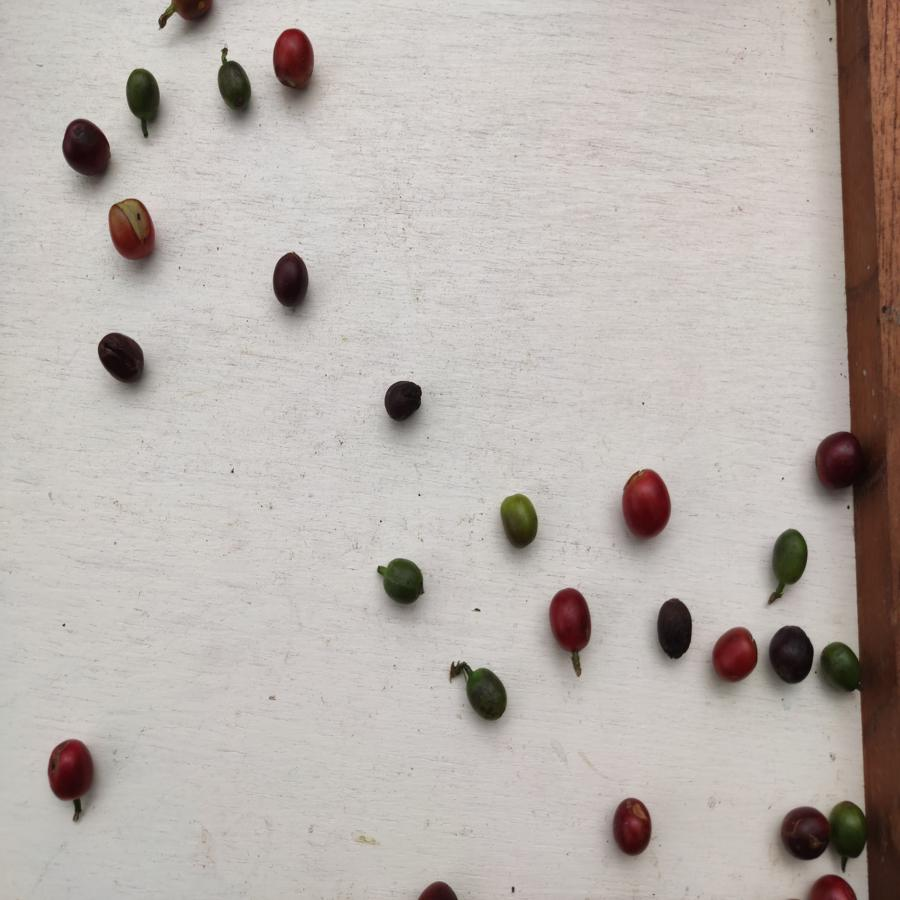Inmaduro: (455, 658, 509, 725), (820, 635, 866, 700), (768, 527, 813, 589), (826, 796, 870, 859), (378, 557, 428, 610), (121, 67, 165, 125), (215, 60, 254, 111)
Maduro: (618, 467, 675, 541), (106, 198, 163, 264), (44, 733, 96, 803), (272, 26, 318, 97), (711, 624, 761, 689), (549, 586, 594, 654), (807, 867, 862, 900)
Pinton: (498, 494, 542, 548)
Sobremaduro: (814, 430, 866, 492), (61, 118, 113, 178), (768, 622, 817, 685), (95, 331, 149, 385), (268, 250, 314, 311), (778, 804, 829, 859), (654, 594, 695, 662), (612, 798, 656, 858), (383, 381, 425, 423), (413, 880, 460, 900)
